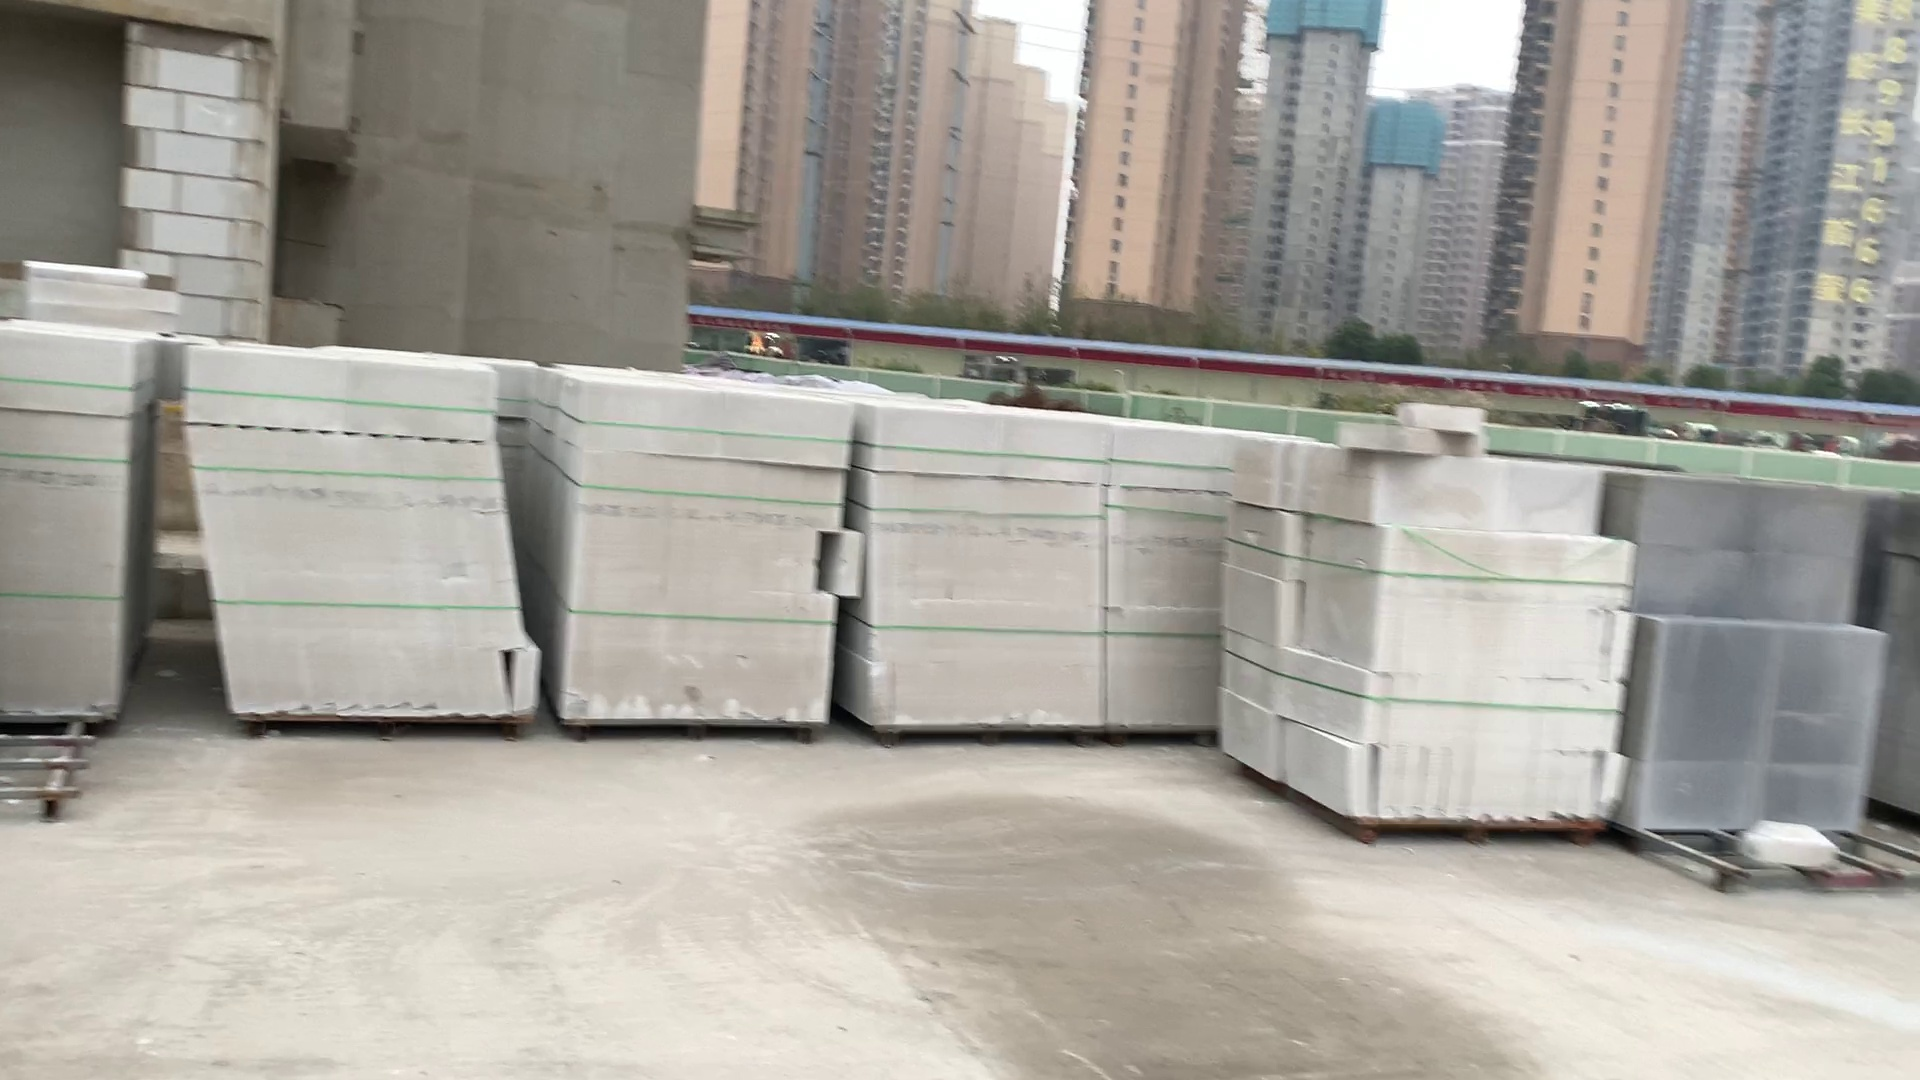brickwork: (1230, 438, 1619, 837), (191, 349, 534, 727), (556, 377, 851, 733), (1625, 475, 1874, 833), (862, 406, 1104, 741), (4, 324, 131, 727), (1112, 423, 1237, 735)
